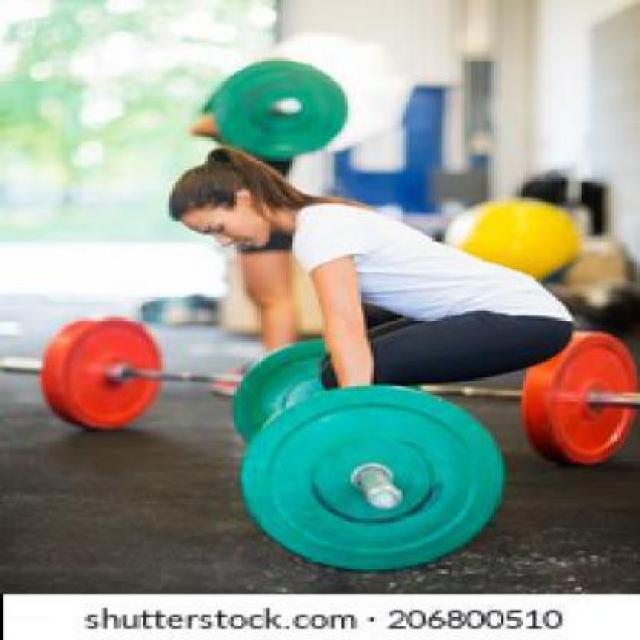Barbell: (364, 481, 412, 517)
